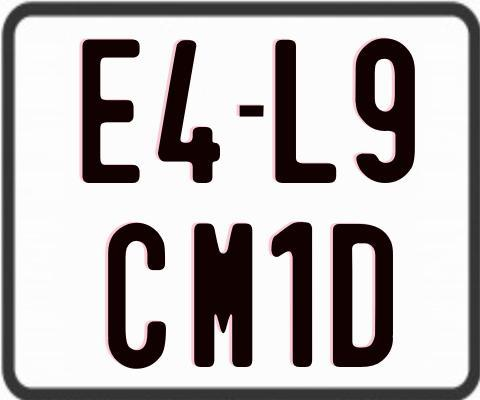1: (268, 221, 314, 367)
4: (157, 38, 219, 183)
9: (355, 38, 416, 184)
C: (108, 221, 167, 373)
D: (332, 222, 392, 366)
E: (80, 39, 141, 189)
L: (273, 39, 335, 183)
M: (191, 222, 254, 369)
